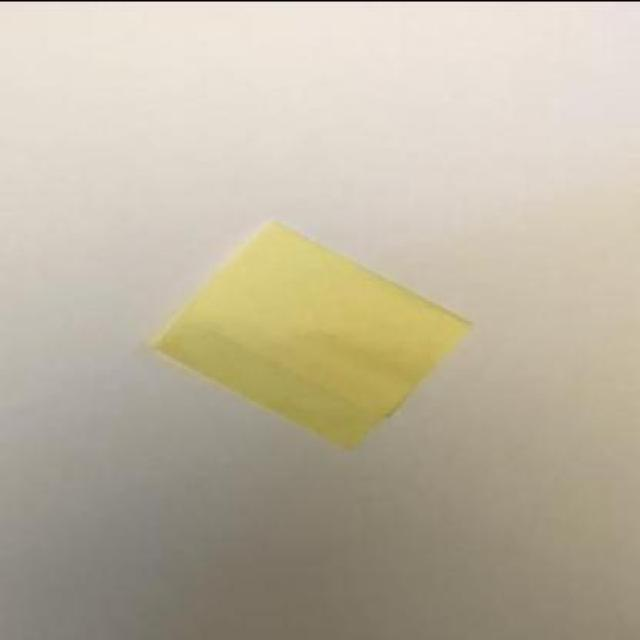paper: (155, 218, 477, 451)
